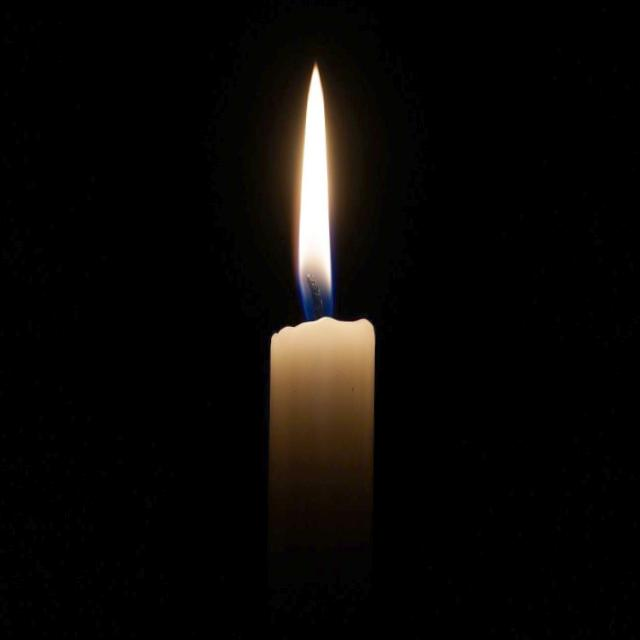Fire_Save: (266, 58, 380, 536), (294, 61, 337, 320)
